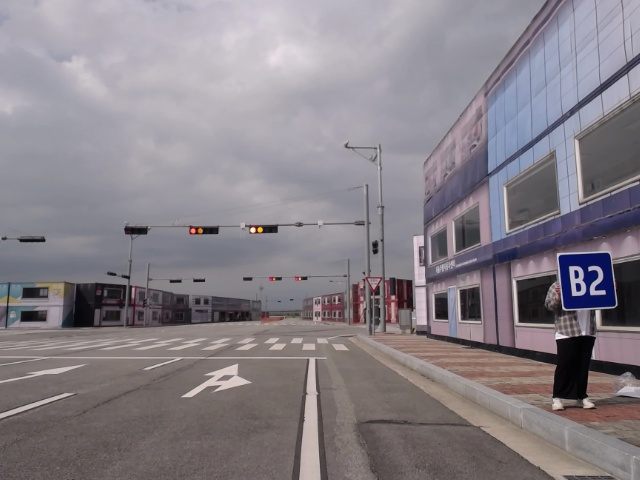delivery_b2: (554, 250, 619, 313)
